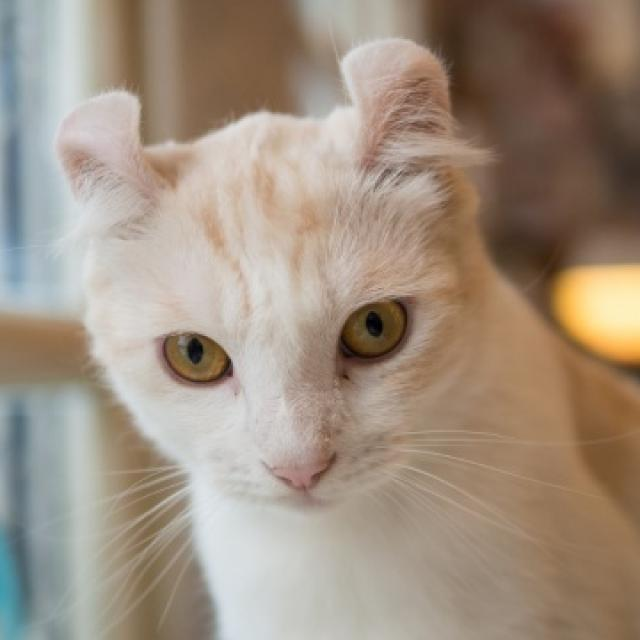American Curl: (50, 32, 640, 640)
